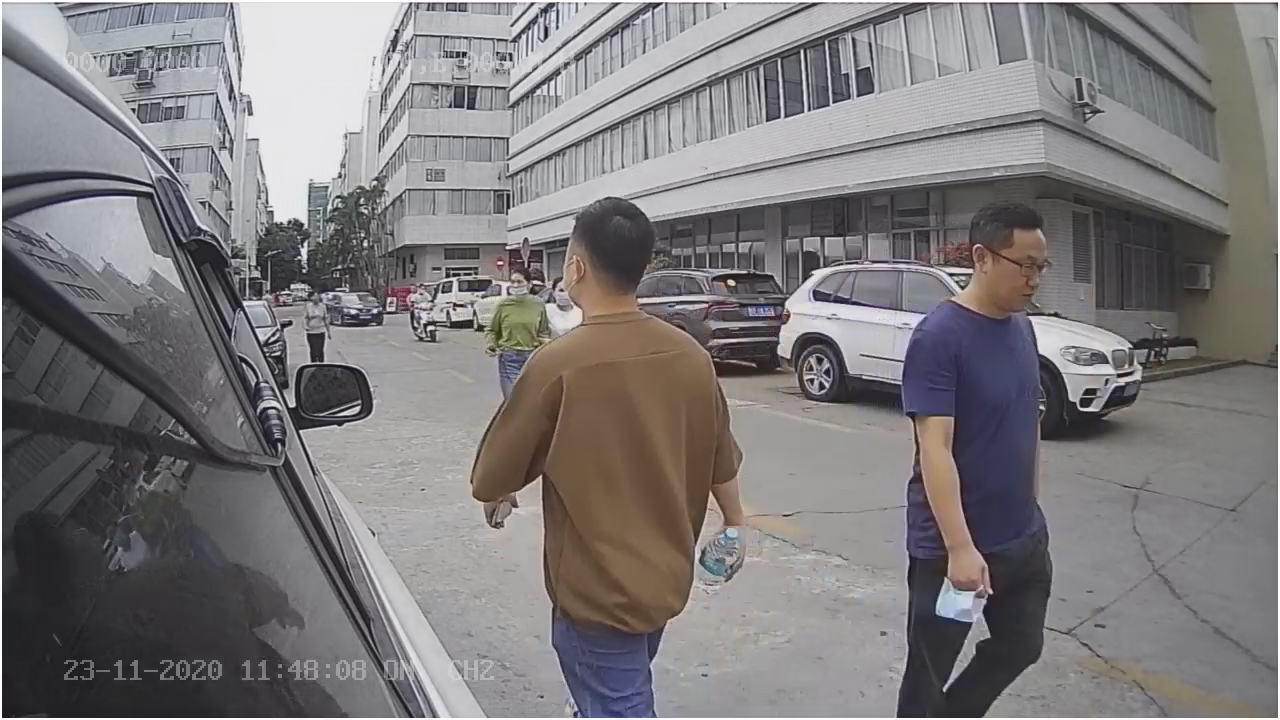person: (466, 187, 766, 607), (884, 199, 1101, 589)
